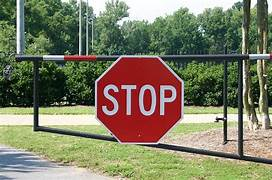stop: (93, 55, 186, 146)
